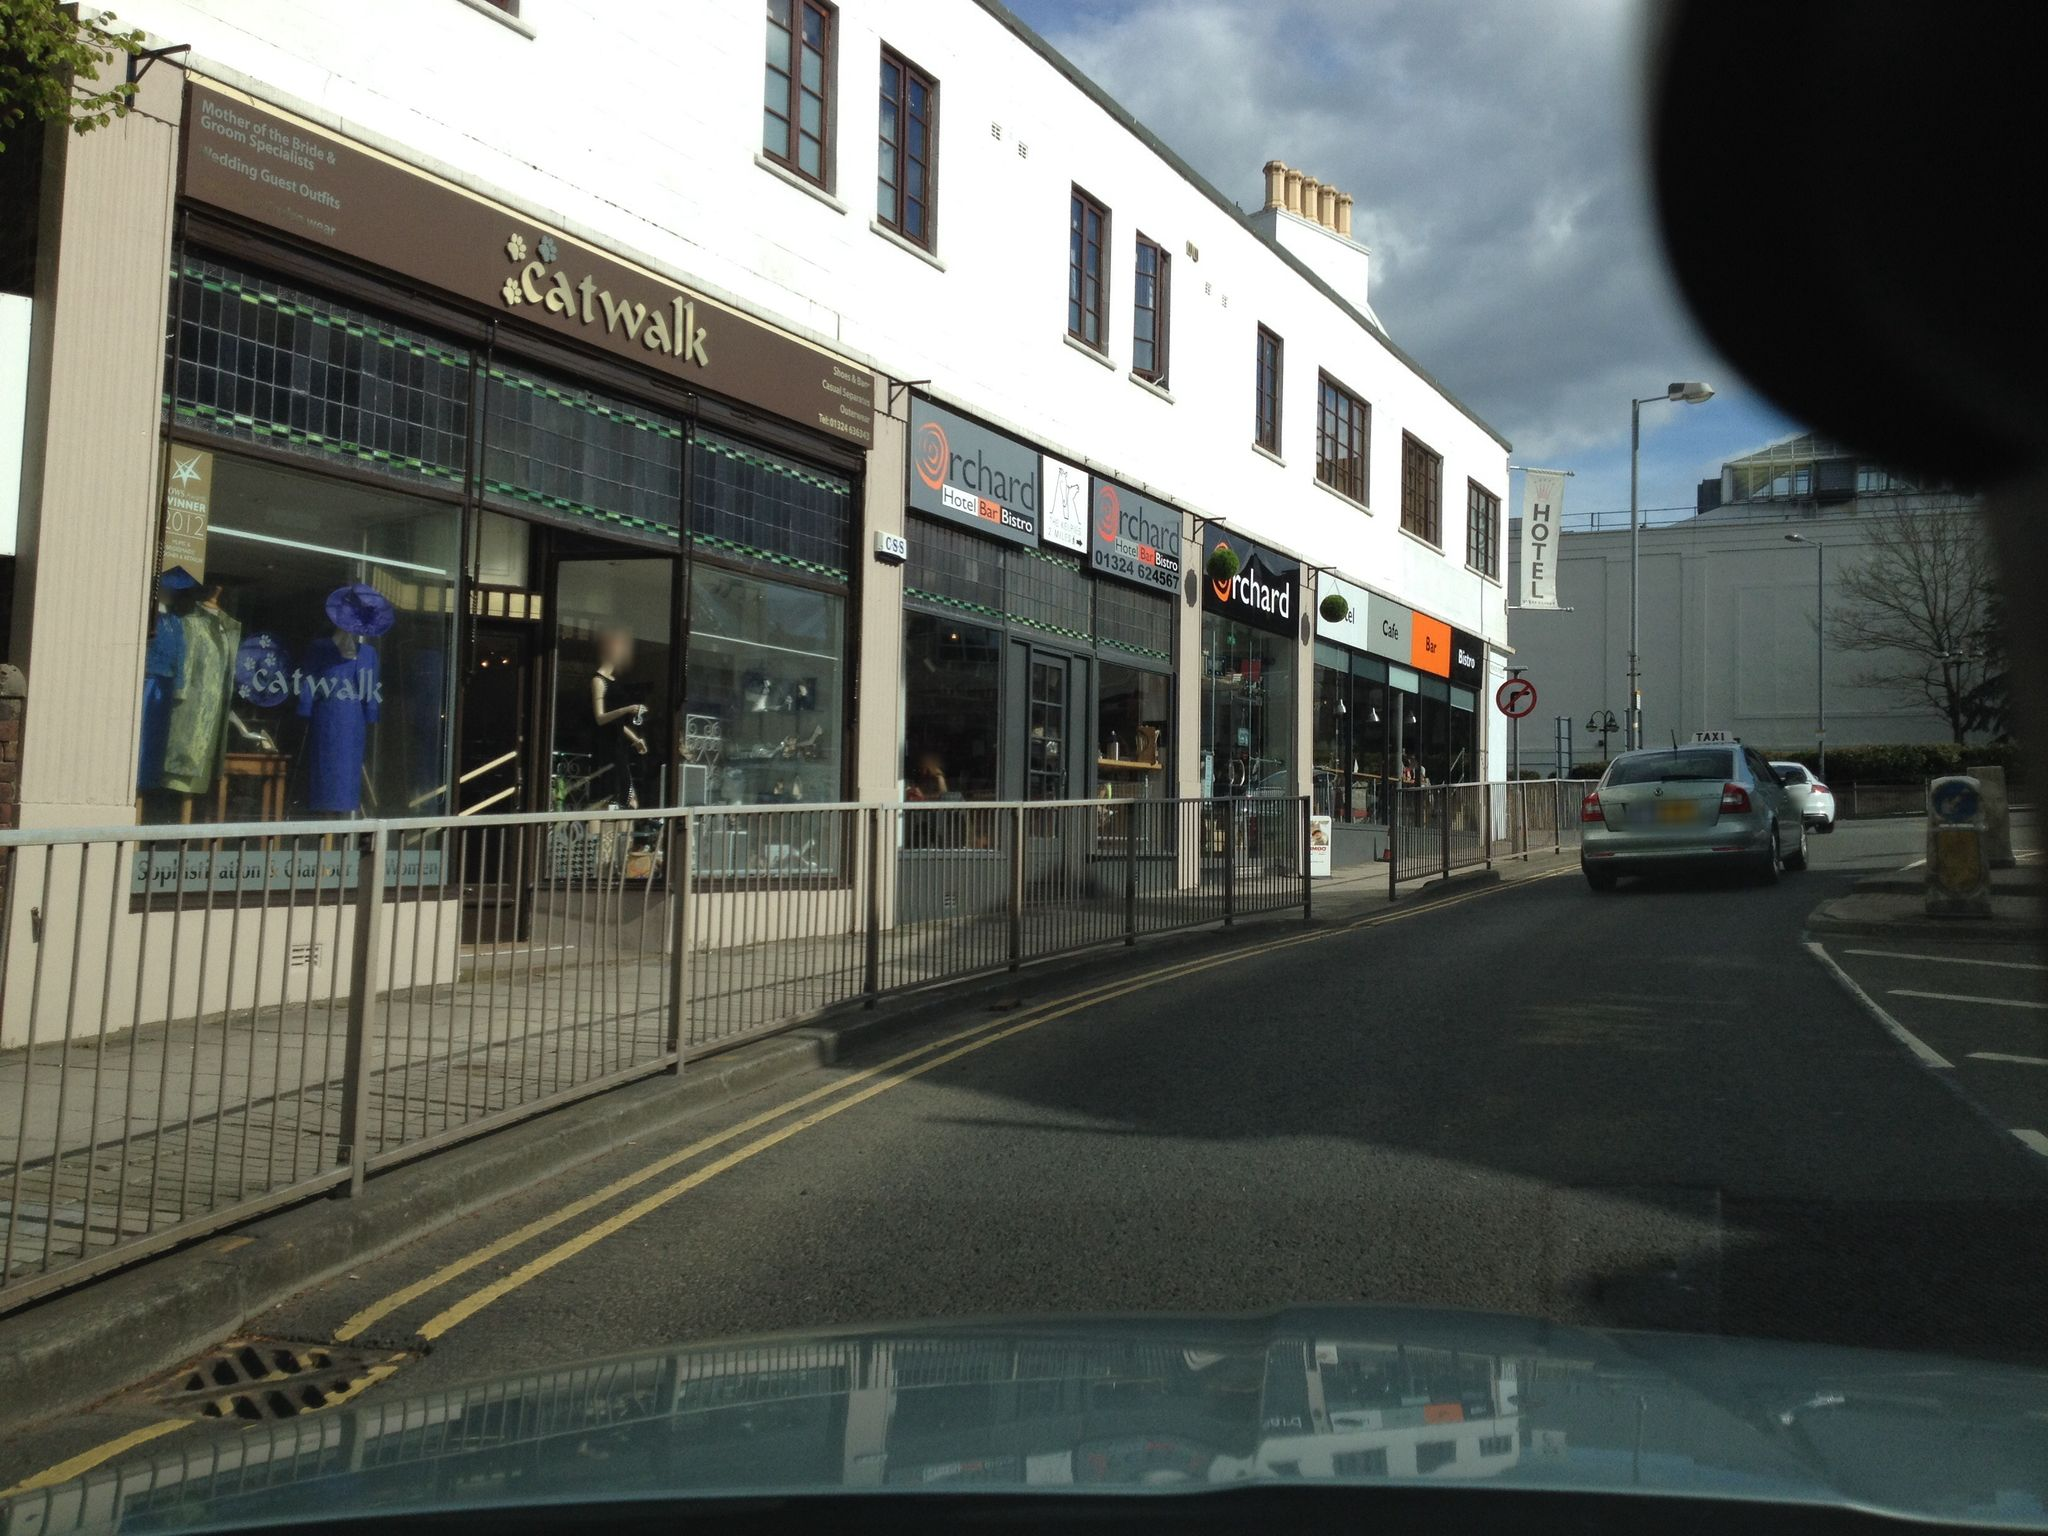car: (1577, 729, 1809, 883), (1763, 760, 1837, 834)
